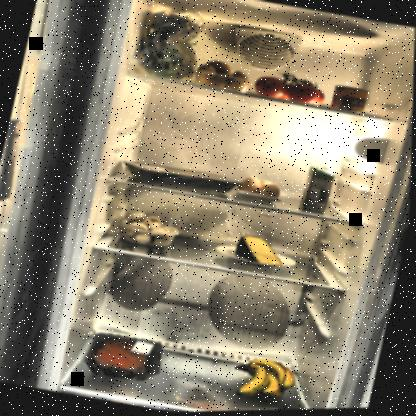banana: (228, 353, 303, 408)
beef: (83, 329, 170, 388)
cheese: (232, 232, 290, 270)
corn: (329, 84, 372, 118)
eggs: (235, 172, 285, 207)
heavy_cream: (301, 164, 338, 217)
mushrooms: (114, 205, 179, 252)
potato: (191, 56, 256, 96)
spinach: (131, 5, 209, 87)
tomato: (251, 61, 330, 108)
